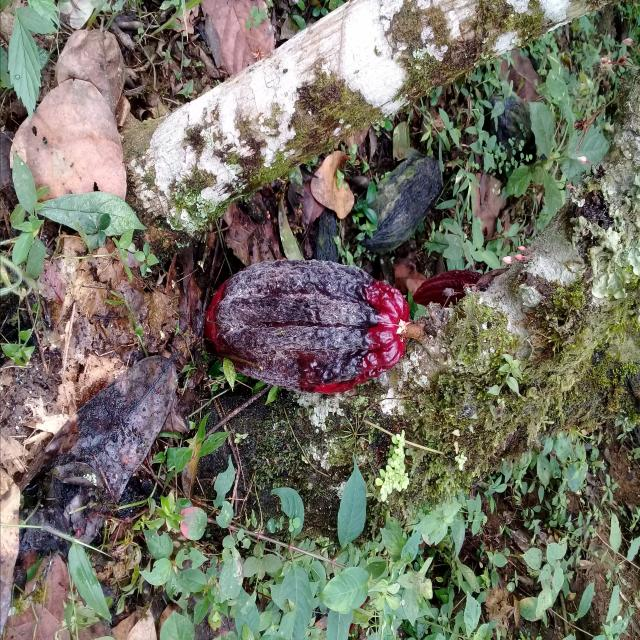Fitoftora: (205, 258, 408, 391)
